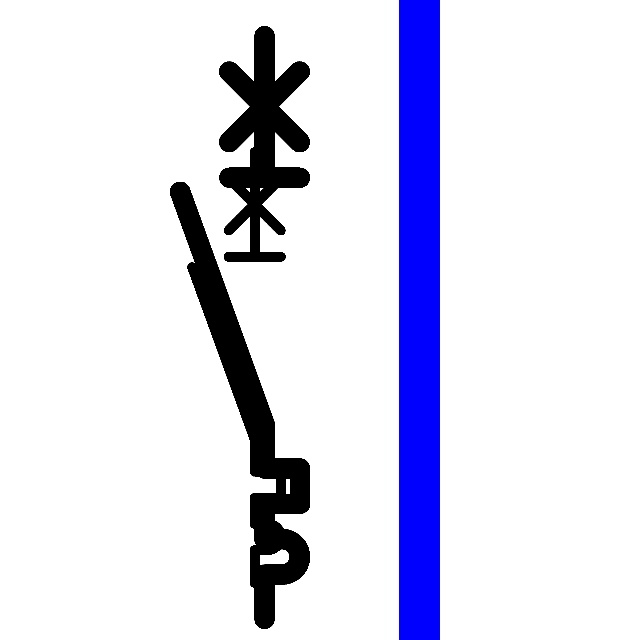interruptor_termomagnetico: (165, 21, 315, 634), (181, 141, 292, 594)
